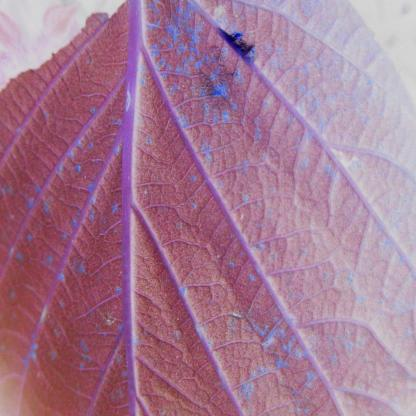raspberry leaf: (3, 3, 416, 416)
